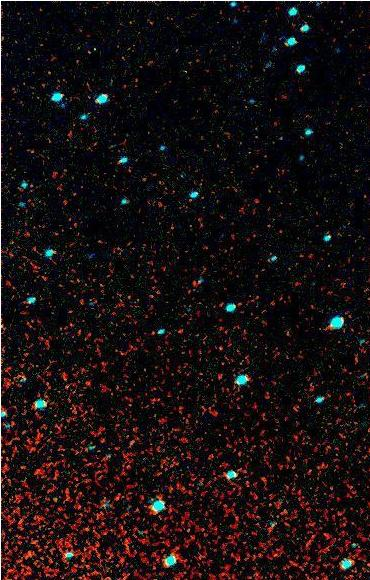star: (104, 482, 134, 512)
